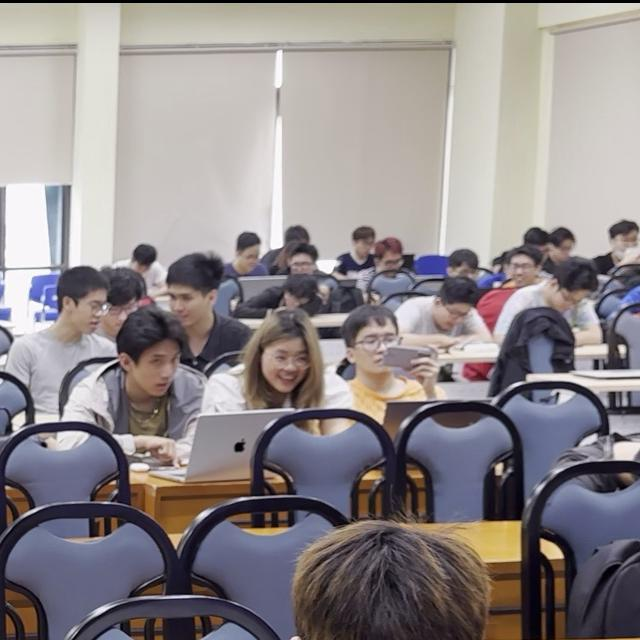Looking away: (260, 338, 311, 395), (134, 341, 182, 398), (71, 288, 109, 337), (168, 285, 205, 329), (548, 284, 589, 316), (436, 302, 471, 330)
Looking forward: (509, 254, 532, 291)
Phone use: (338, 303, 438, 410)
